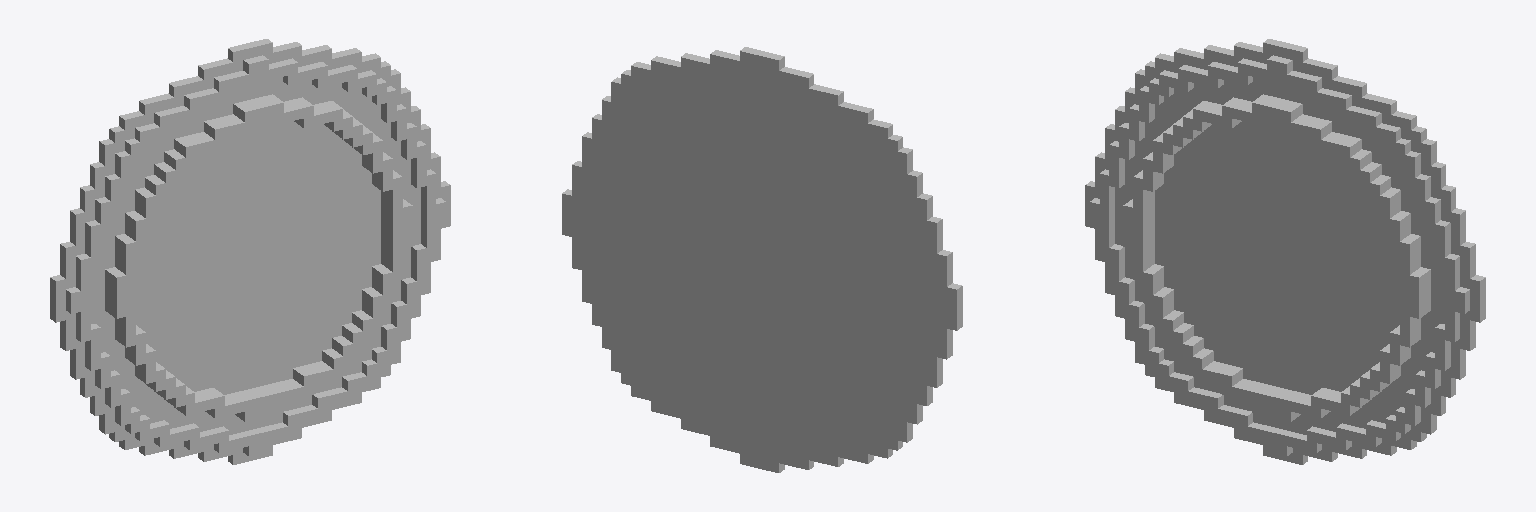
File: button base.obj
The picture shows the model from 3 angles: view 1: azimuth 30°, elevation 25°; view 2: azimuth 150°, elevation 25°; view 3: azimuth 330°, elevation 25°; orthographic projection.
Size of the model in its own units: 40 by 40 by 3.